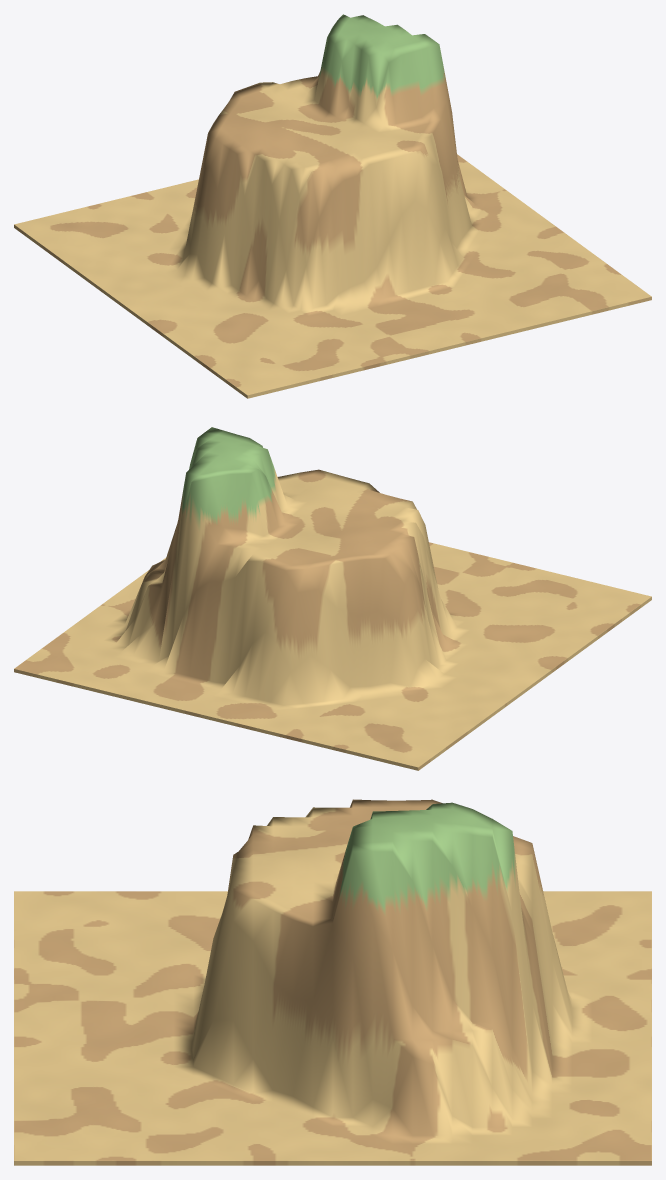
Rendered from Desert_Mountains_11.obj.
3 renders of one model, top to bottom at view 1: azimuth 30°, elevation 25°; view 2: azimuth 150°, elevation 25°; view 3: azimuth 270°, elevation 25°, orthographic. The views are drawn at different scales.
Bounding box in the file's own units: 10 × 4.48 × 10.
Materials: 1 (1 with a texture image).
